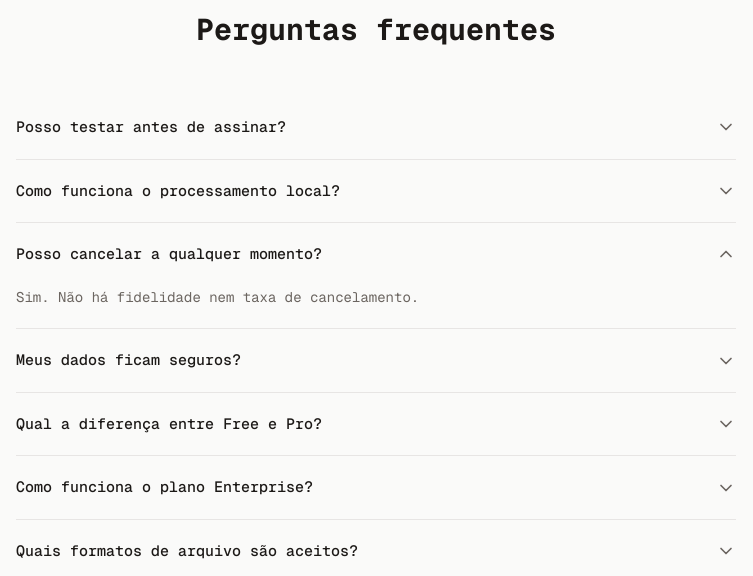
Test: PricingFAQ › content visibility › shows correct answer for each of the 7 items
Earlier steps of the test are not shown.
Later steps or results of the test are not shown.
Expected: the text "Sim. Não há fidelidade nem taxa de cancelamento." is shown, [16,288,419,306]
Click the button "Posso cancelar a qualquer momento?": click(169, 254) [16,223,736,286]
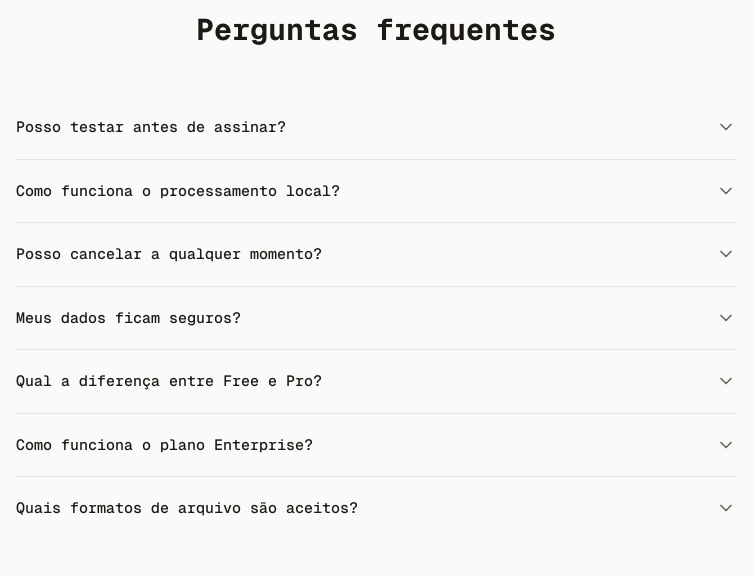
Click the button "Meus dados ficam seguros?": click(129, 317) [16,286,736,349]
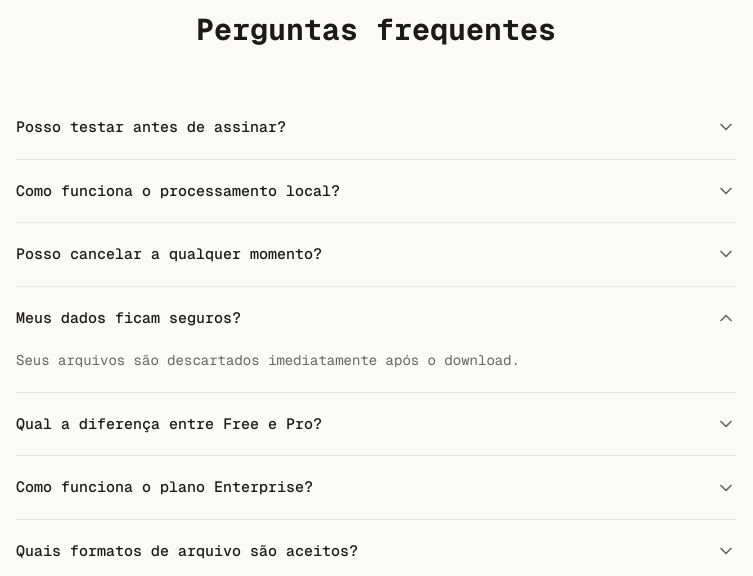
Now the text "Seus arquivos são descartados imediatamente após o download." is shown, box [16,351,520,369]
Click the button "Meus dados ficam seguros?": click(129, 317) [16,286,736,349]
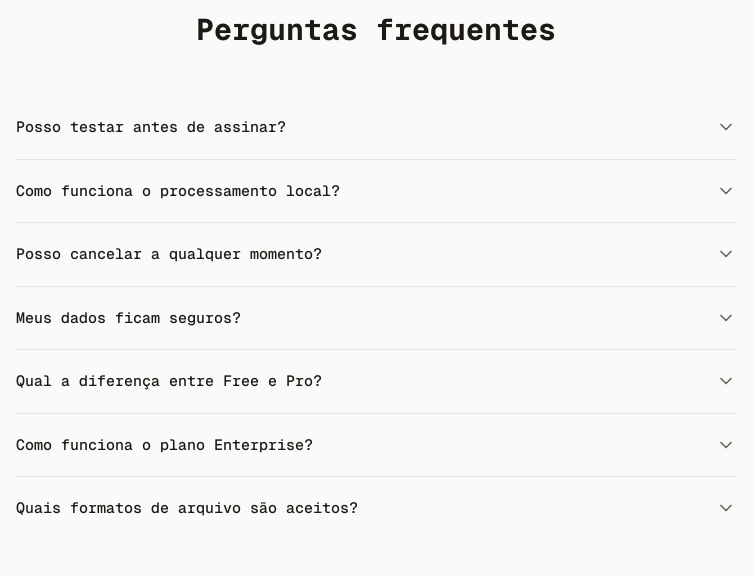
Click the button "Qual a diferença entre Free e Pro?": click(169, 380) [16,350,736,412]
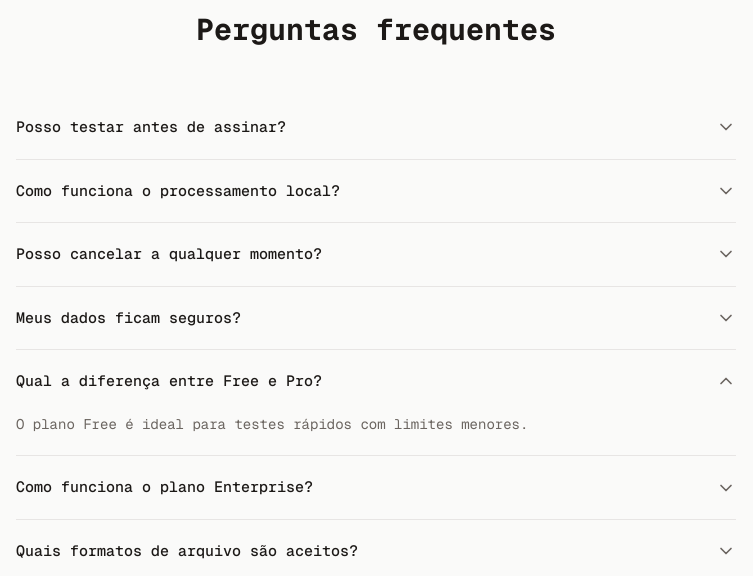
Now the text "O plano Free é ideal para testes rápidos com limites menores." is shown, box [16,414,528,432]
Click the button "Qual a diferença entre Free e Pro?": click(169, 380) [16,350,736,412]
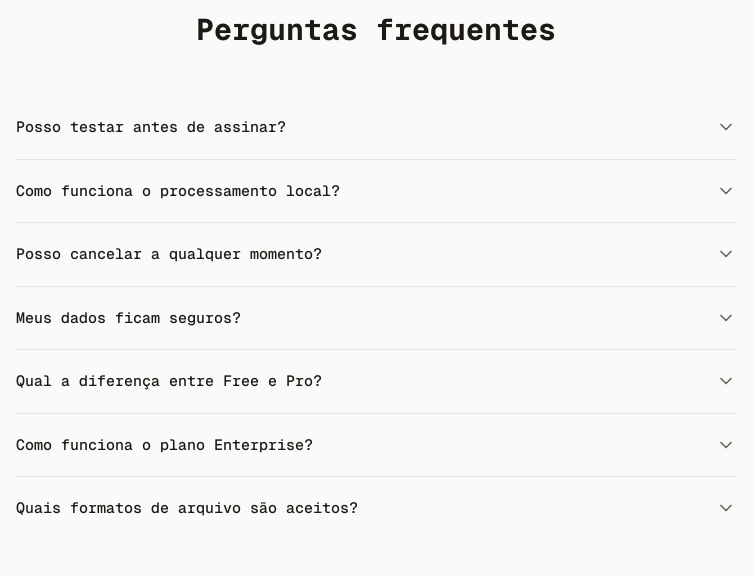
Click the button "Como funciona o plano Enterprise?": click(165, 444) [16,414,736,476]
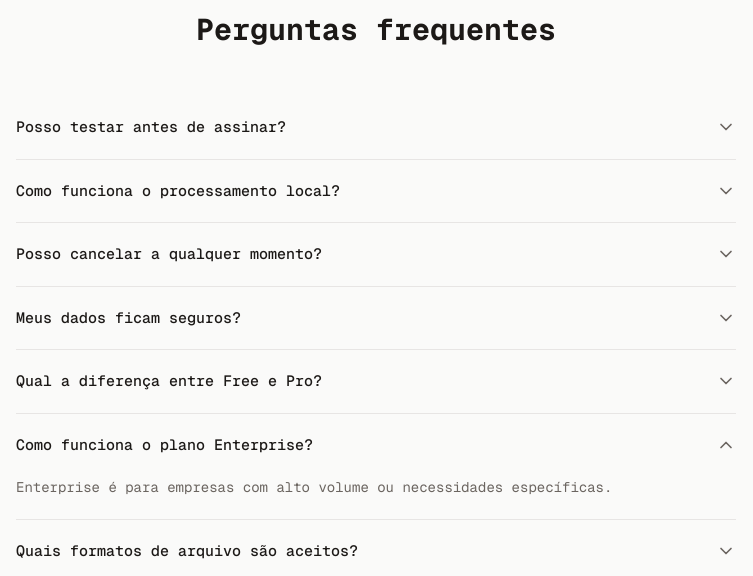
Now the text "Enterprise é para empresas com alto volume ou necessidades específicas." is shown, box [16,478,612,496]
